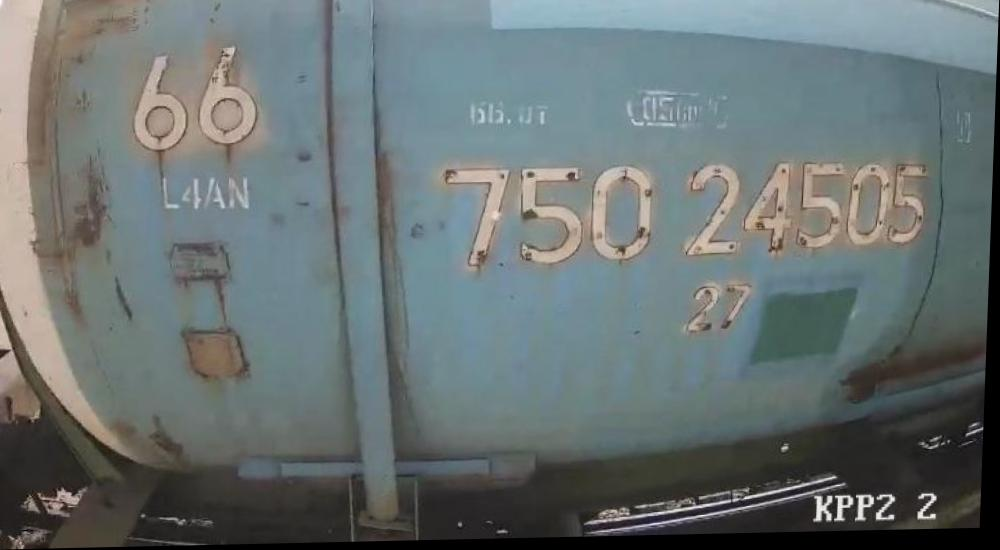Wagon-number: (439, 152, 936, 275)
